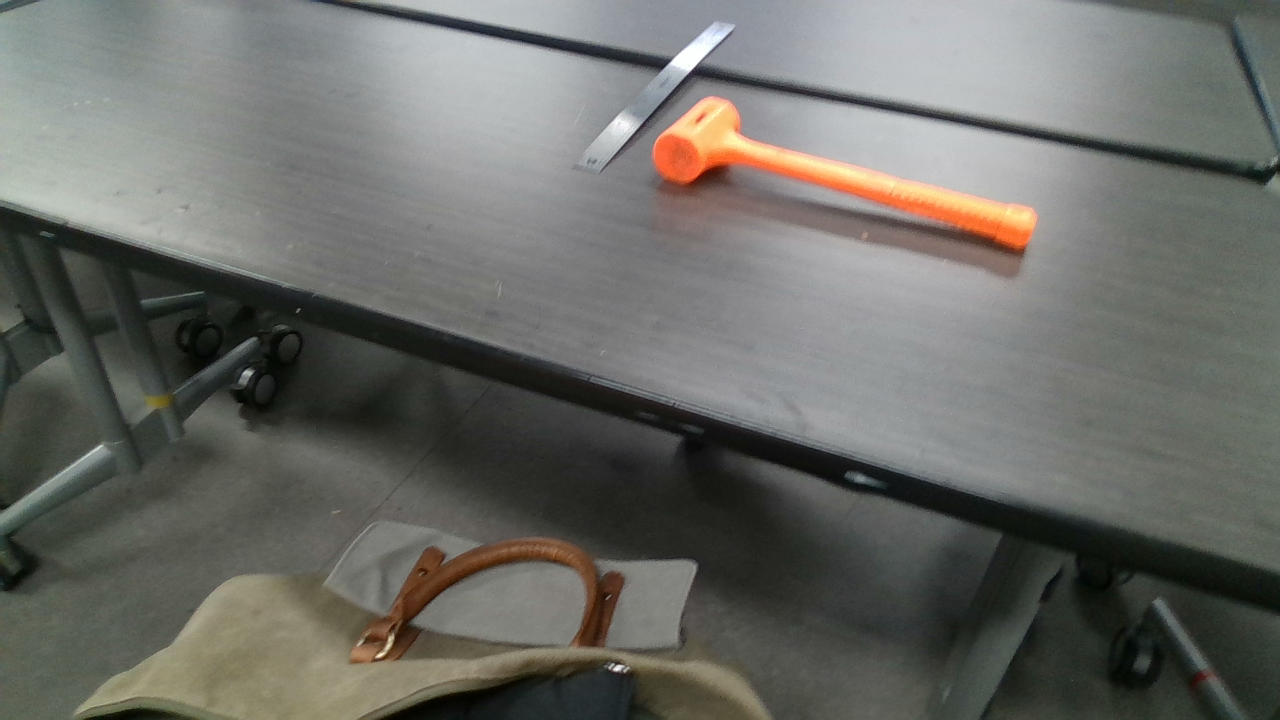Orange Hammer: (654, 96, 1034, 250)
